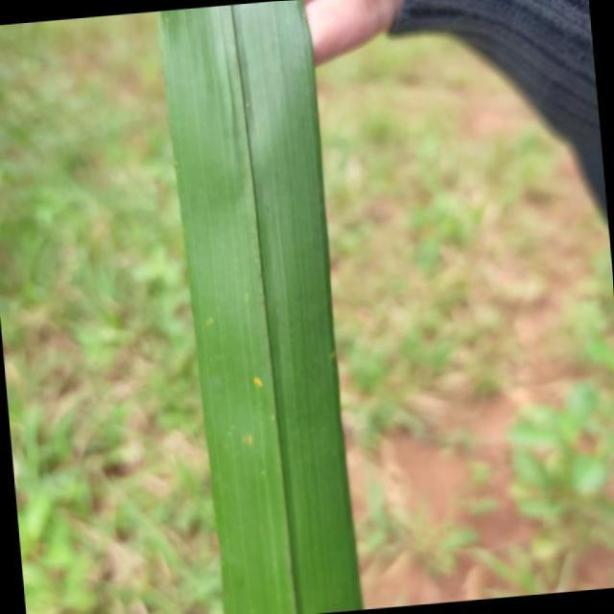Kalium: (160, 5, 364, 614)
